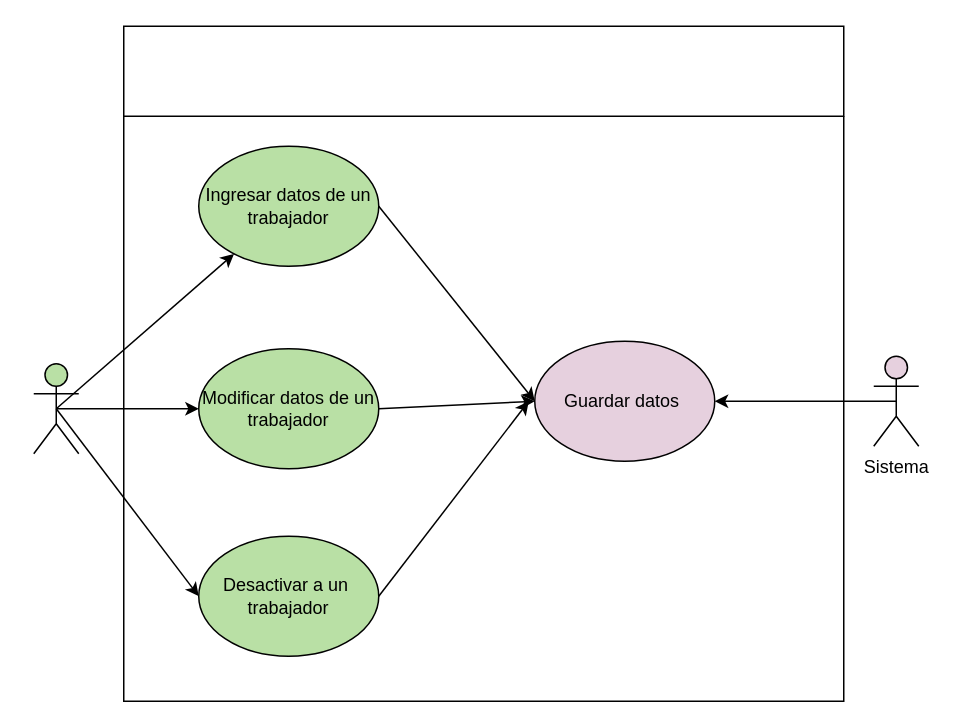
Image size: 954x728. Some labels were removed from this diagram. Here are the shapes that lost their labels. From the top down, the centre of each, then its label:
At point (483, 70): "RRHH".
At point (55, 408): "Usuario".
